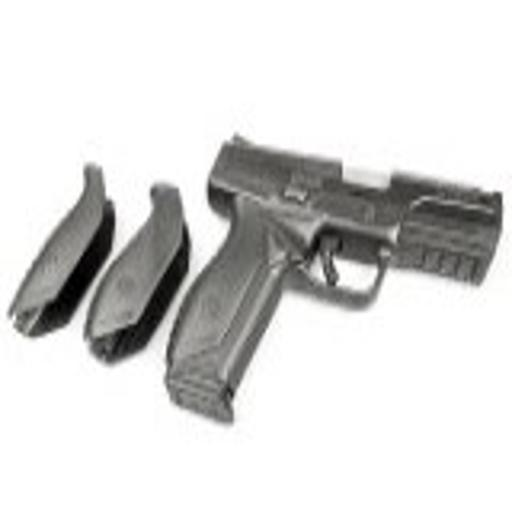Handgun: (162, 139, 507, 425)
